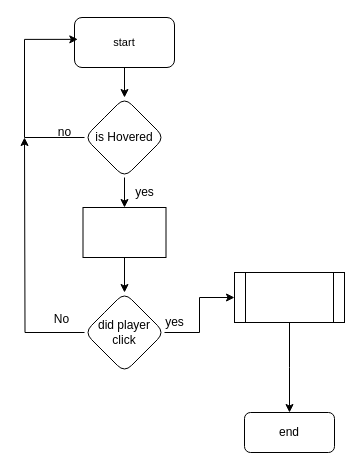
Some shapes in this 362 by 470 pixel diagram are drawn without their labels. The shapes that lost their labels are listed below. From the top down, each one's centre as x and y in pixels, then its label:
pixel 124 232: Update to hover color
pixel 289 297: on click()
